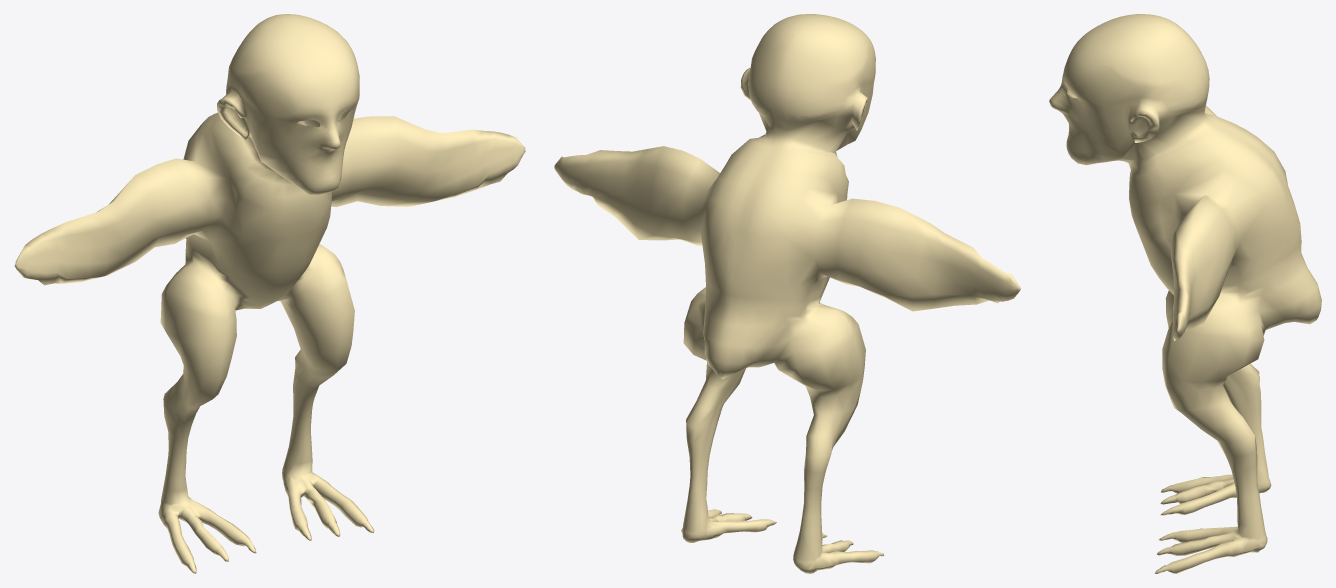
Rendered from goya1.glb.
The picture shows the model from 3 angles, left to right: view 1: azimuth 30°, elevation 25°; view 2: azimuth 150°, elevation 25°; view 3: azimuth 270°, elevation 25°; orthographic projection. The views are drawn at different scales.
Parts seen in each view (by area): view 1: GOYA2ARREGLADO; view 2: GOYA2ARREGLADO; view 3: GOYA2ARREGLADO.
Boxes of the visible parts, box(x1,y1,x2,y2) form: GOYA2ARREGLADO: box(14, 14, 525, 573); GOYA2ARREGLADO: box(554, 14, 1020, 573); GOYA2ARREGLADO: box(1049, 14, 1321, 573).
Bounding box in the file's own units: 13.7 × 14.06 × 6.77.
